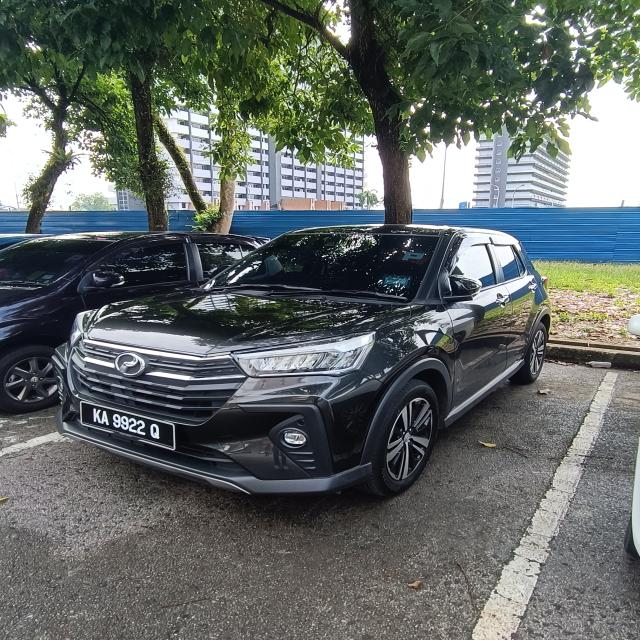PeroduaAtiva: (49, 222, 553, 499)
